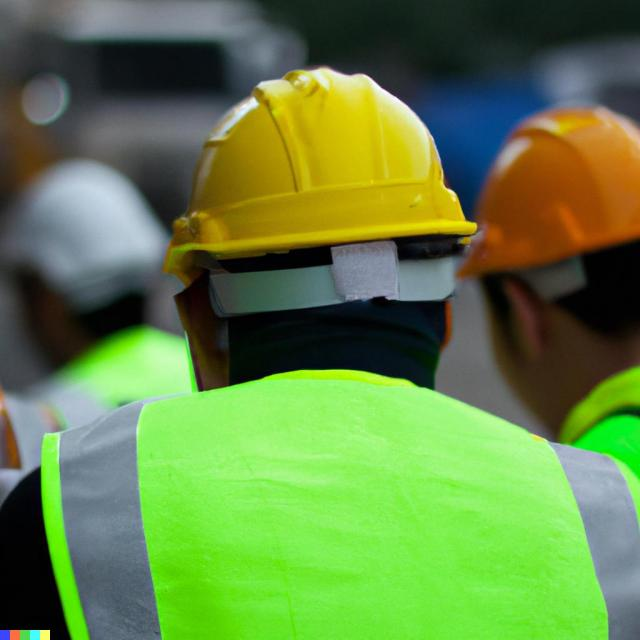Reflective-Jacket: (9, 371, 593, 637), (559, 351, 640, 640)
Safety-Helmet: (166, 64, 485, 264), (458, 100, 639, 283)
